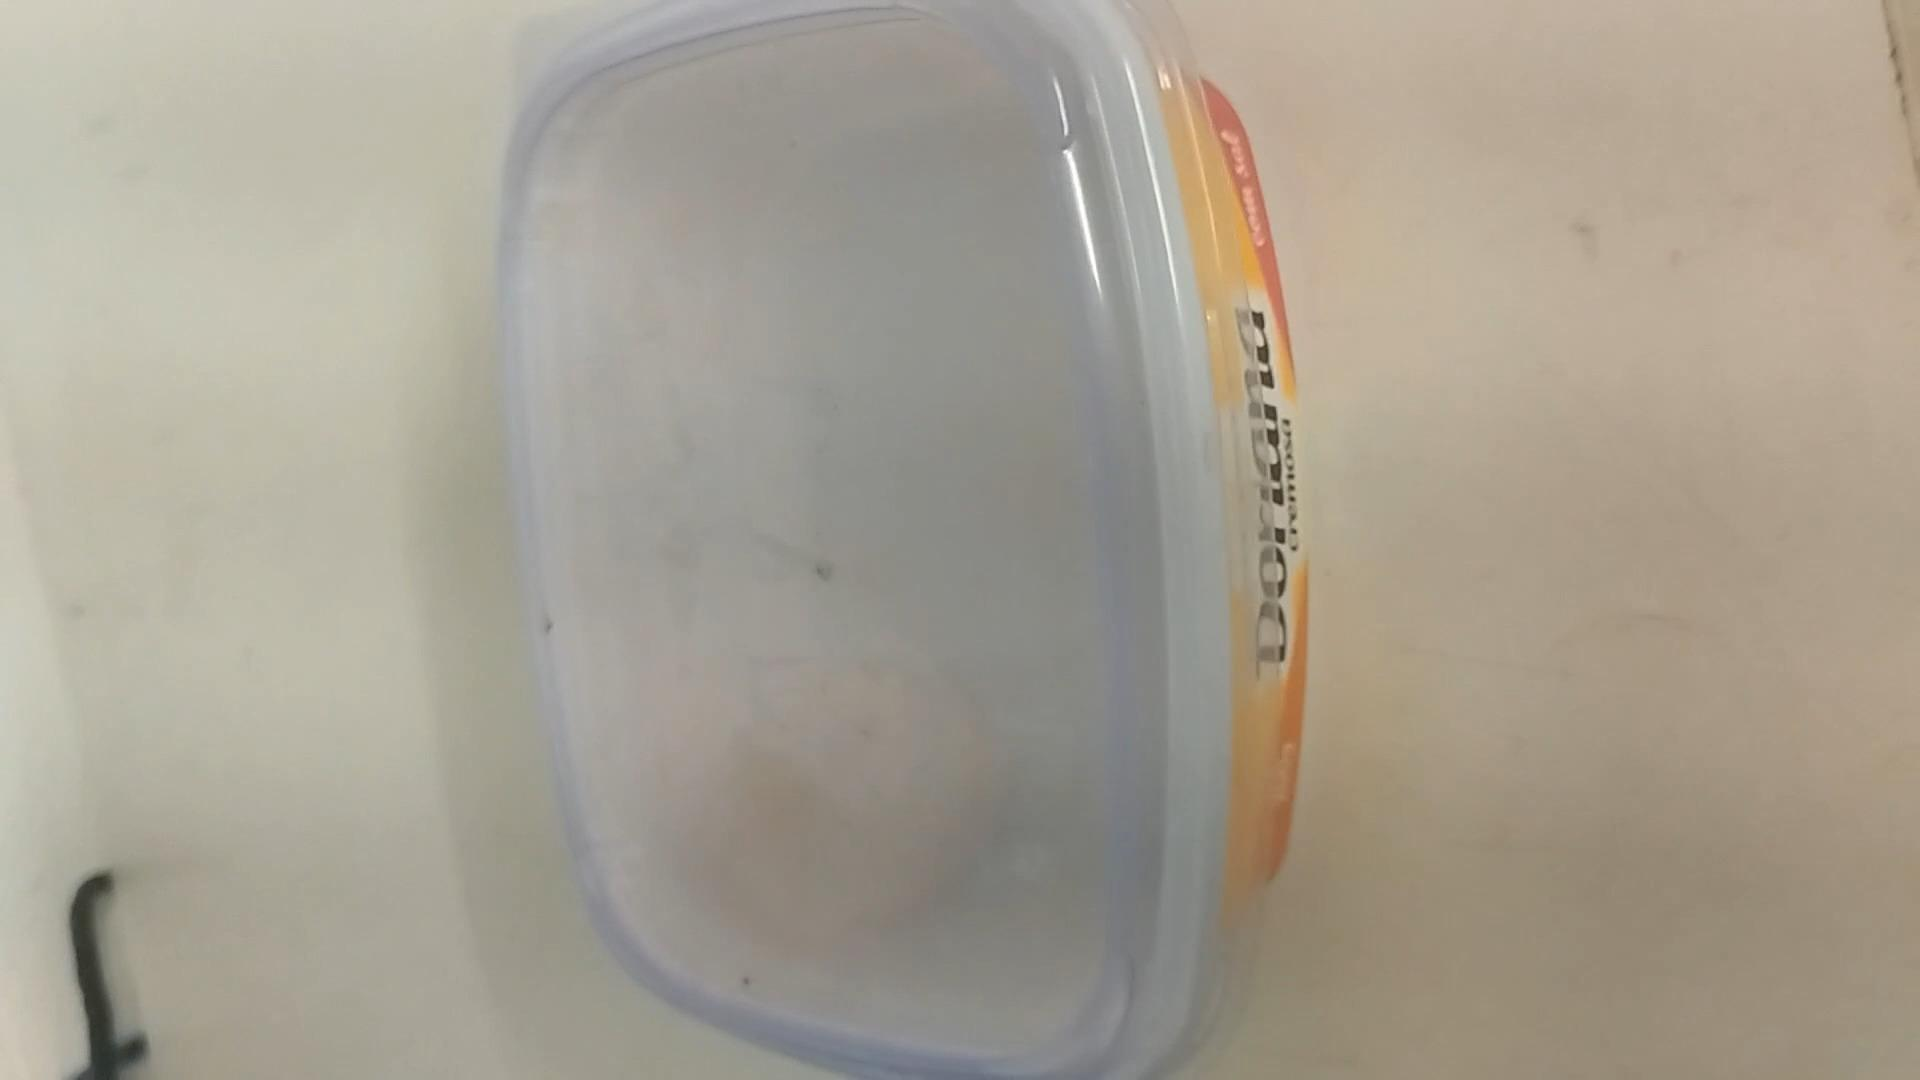butter: (502, 8, 1282, 1079)
